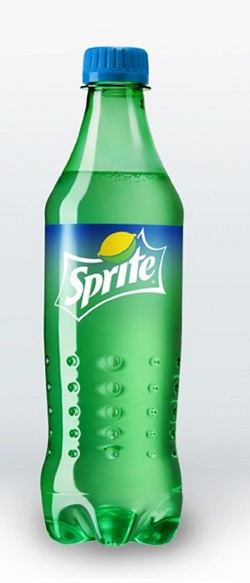Sprite: (32, 43, 196, 549)
